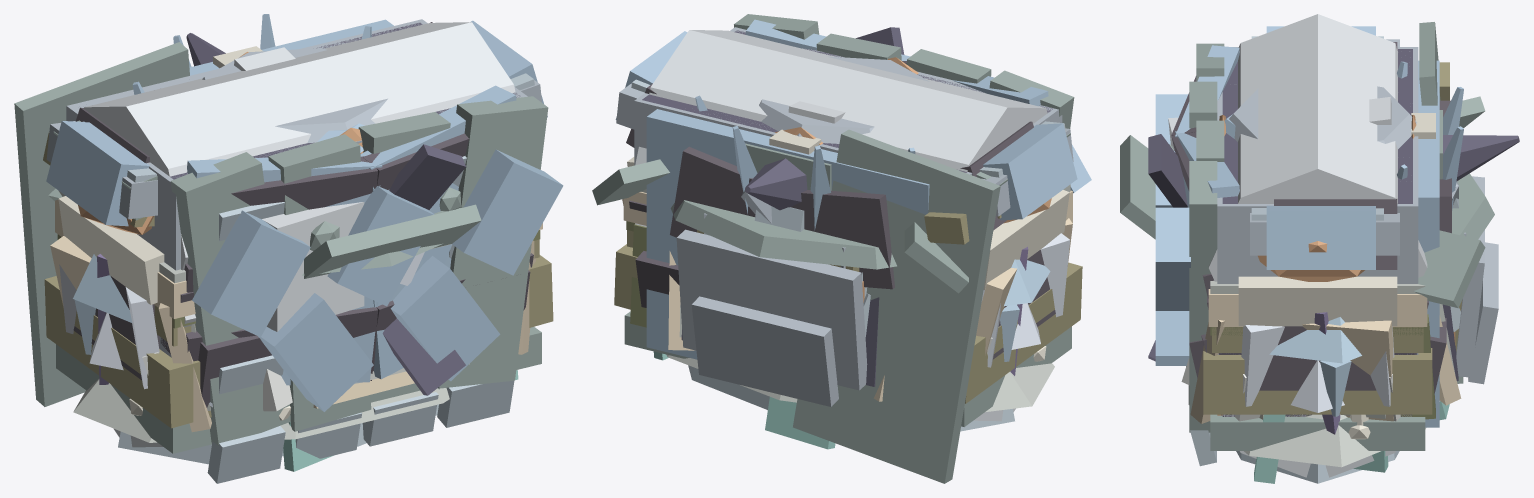
File: armor.glb
The picture shows the model from 3 angles, left to right: view 1: azimuth 30°, elevation 25°; view 2: azimuth 150°, elevation 25°; view 3: azimuth 270°, elevation 25°; orthographic projection. The views are drawn at different scales.
Parts seen in each view (by area): view 1: Stormcaller_Chest, CorsairsRest_Chest, Rimebound_Chest, Tideward_Chest, Mirewalker_Chest, Wraithbound_Chest, Cindershell_Chest, CorsairsRest_Helm, Duskveil_Chest, Chitin_Legs, Boneplate_Legs, CorsairsRest_Legs (+9 smaller); view 2: CorsairsRest_Chest, Wraithbound_Helm, Rimebound_Chest, Stormcaller_Chest, CorsairsRest_Helm, Cindershell_Helm, Mirewalker_Chest, Wraithbound_Chest, Boneplate_Legs, Chitin_Legs, Duskveil_Helm, Stormcaller_Legs (+12 smaller); view 3: Rimebound_Chest, Stormcaller_Chest, CorsairsRest_Chest, Wraithbound_Chest, Mirewalker_Chest, CorsairsRest_Helm, Boneplate_Legs, Chitin_Legs, Duskveil_Chest, Wraithbound_Helm, Stormcaller_Legs, CorsairsRest_Legs (+14 smaller).
Part boxes in pixels (left/top/right/bottom): Stormcaller_Chest: left=46, top=19, right=563, bottom=411; CorsairsRest_Chest: left=14, top=42, right=548, bottom=453; Rimebound_Chest: left=83, top=22, right=515, bottom=447; Tideward_Chest: left=83, top=73, right=534, bottom=483; Mirewalker_Chest: left=43, top=133, right=553, bottom=428; Wraithbound_Chest: left=46, top=19, right=541, bottom=407; Cindershell_Chest: left=75, top=22, right=533, bottom=380; CorsairsRest_Helm: left=48, top=188, right=481, bottom=278; Duskveil_Chest: left=170, top=22, right=520, bottom=395; Chitin_Legs: left=50, top=199, right=542, bottom=432; Boneplate_Legs: left=58, top=196, right=290, bottom=420; CorsairsRest_Legs: left=59, top=191, right=449, bottom=442; CorsairsRest_Chest: left=624, top=14, right=1074, bottom=483; Wraithbound_Helm: left=676, top=190, right=867, bottom=406; Rimebound_Chest: left=635, top=30, right=1047, bottom=421; Stormcaller_Chest: left=615, top=19, right=1091, bottom=359; CorsairsRest_Helm: left=592, top=159, right=968, bottom=293; Cindershell_Helm: left=670, top=146, right=894, bottom=289; Mirewalker_Chest: left=614, top=212, right=1082, bottom=403; Wraithbound_Chest: left=616, top=27, right=1073, bottom=216; Boneplate_Legs: left=627, top=157, right=1069, bottom=361; Chitin_Legs: left=622, top=190, right=1072, bottom=401; Duskveil_Helm: left=681, top=158, right=879, bottom=386; Stormcaller_Legs: left=981, top=233, right=1070, bottom=367; Rimebound_Chest: left=1168, top=14, right=1427, bottom=477; Stormcaller_Chest: left=1155, top=26, right=1439, bottom=427; CorsairsRest_Chest: left=1189, top=22, right=1463, bottom=450; Wraithbound_Chest: left=1217, top=39, right=1418, bottom=354; Mirewalker_Chest: left=1203, top=62, right=1449, bottom=414; CorsairsRest_Helm: left=1120, top=96, right=1494, bottom=308; Boneplate_Legs: left=1238, top=276, right=1397, bottom=439; Chitin_Legs: left=1186, top=289, right=1461, bottom=423; Duskveil_Chest: left=1148, top=49, right=1412, bottom=416; Wraithbound_Helm: left=1452, top=176, right=1498, bottom=384; Stormcaller_Legs: left=1241, top=325, right=1394, bottom=412; CorsairsRest_Legs: left=1188, top=280, right=1455, bottom=467.
Size of the model in its own units: 2.66 by 2.01 by 2.27.
